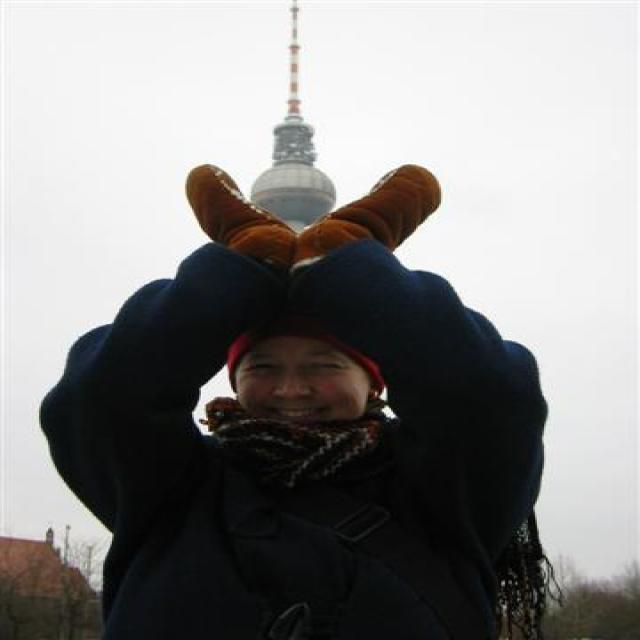person: (40, 166, 550, 640)
